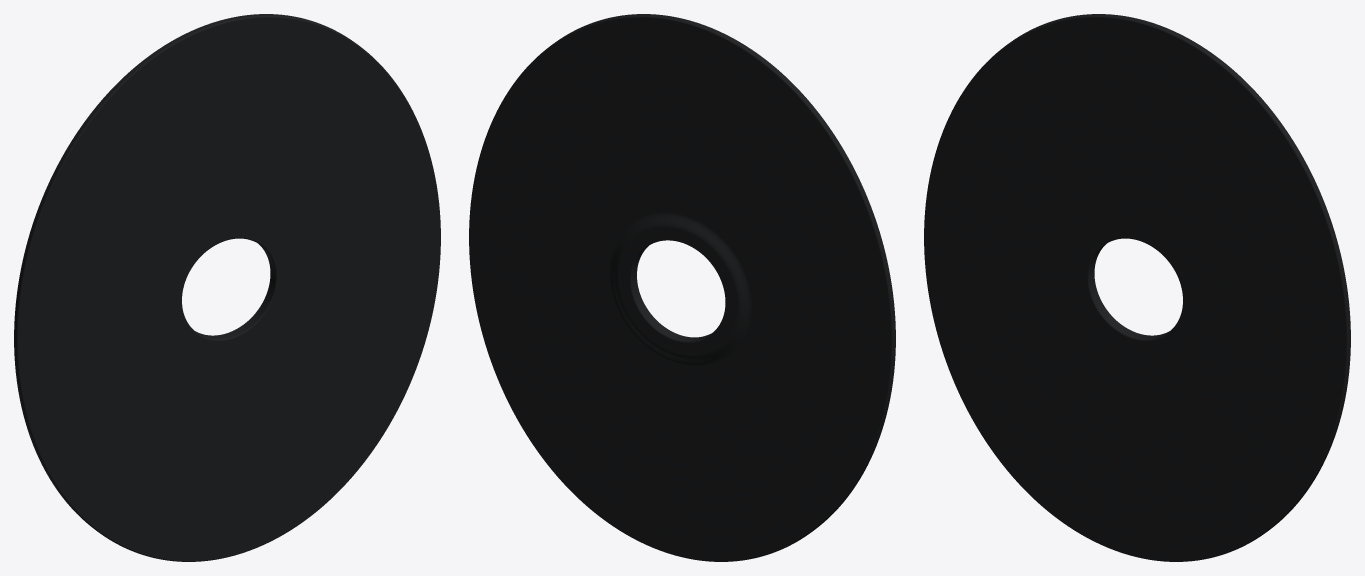
File: exhaust-silencer-end-inspection.glb
The picture shows the model from 3 angles, left to right: view 1: azimuth 30°, elevation 25°; view 2: azimuth 150°, elevation 25°; view 3: azimuth 330°, elevation 25°; orthographic projection.
Visible parts, largest first — view 1: Rear silencer closure with small bore - conditional RDC; view 2: Rear silencer closure with small bore - conditional RDC; view 3: Rear silencer closure with small bore - conditional RDC.
Part boxes in pixels (left/top/right/bottom): Rear silencer closure with small bore - conditional RDC: left=14, top=14, right=440, bottom=561; Rear silencer closure with small bore - conditional RDC: left=469, top=14, right=895, bottom=561; Rear silencer closure with small bore - conditional RDC: left=924, top=14, right=1350, bottom=561.
Size of the model in its own units: 0.077 by 0.093 by 0.002.
Materials: 1 (1 with a texture image).
